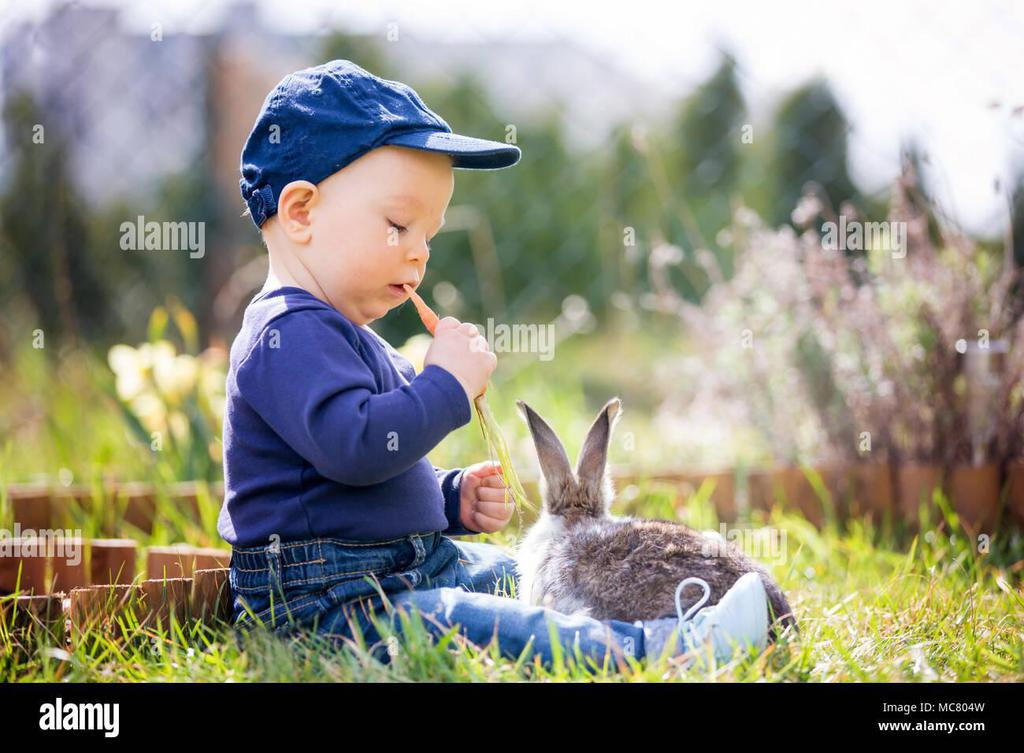child: (196, 51, 548, 639)
